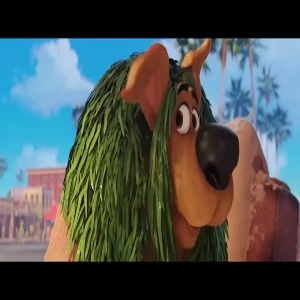Scooby: (122, 37, 244, 242)
